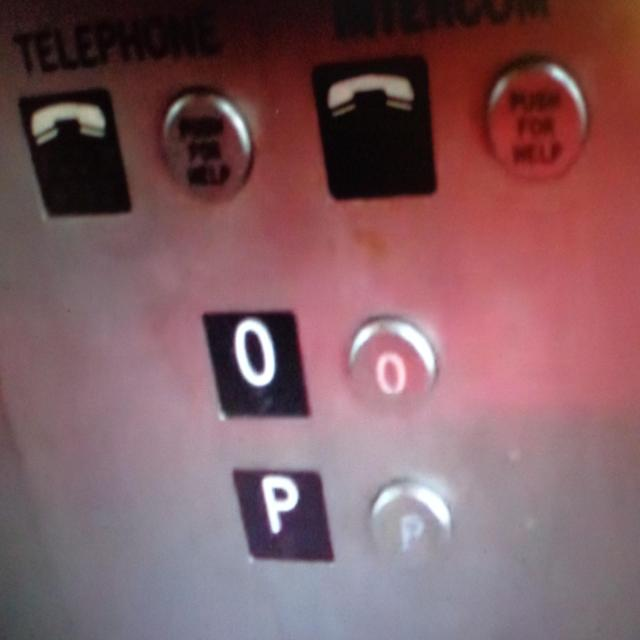0: (200, 302, 312, 424), (342, 311, 440, 419)
P: (228, 464, 338, 568), (365, 470, 453, 575)
call: (311, 52, 441, 200), (16, 83, 132, 221)
text_blur: (481, 52, 594, 182), (155, 82, 256, 204)
